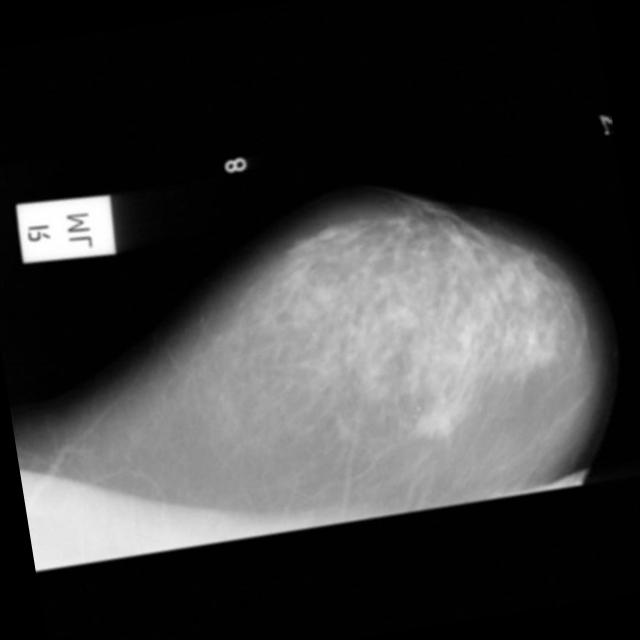MISC: (414, 405, 453, 444)
